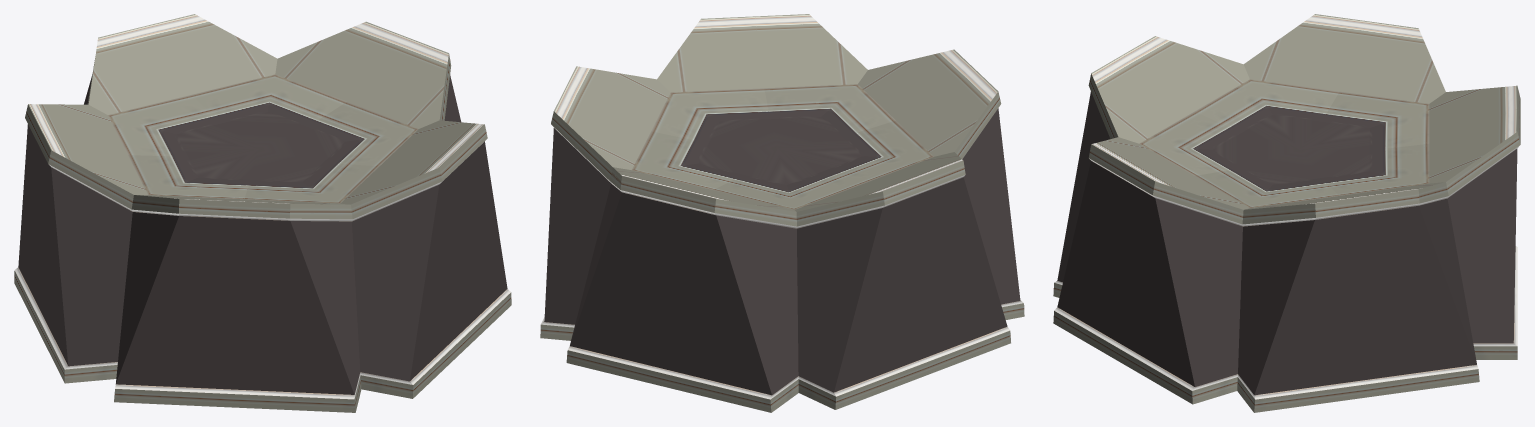
The model's file is KF_SM_XBuilding001.fbx.
3 views of the same model, side by side, from view 1: azimuth 30°, elevation 25°; view 2: azimuth 150°, elevation 25°; view 3: azimuth 270°, elevation 25° (orthographic). The views are drawn at different scales.
Parts seen in each view (by area): view 1: KF_SM_XBuilding1; view 2: KF_SM_XBuilding1; view 3: KF_SM_XBuilding1.
Part boxes in pixels (x1,y1,x2,y2): KF_SM_XBuilding1: [14, 14, 511, 412]; KF_SM_XBuilding1: [540, 14, 1024, 412]; KF_SM_XBuilding1: [1053, 14, 1520, 412].
Bounding box in the file's own units: 6901 × 3139 × 6605.
